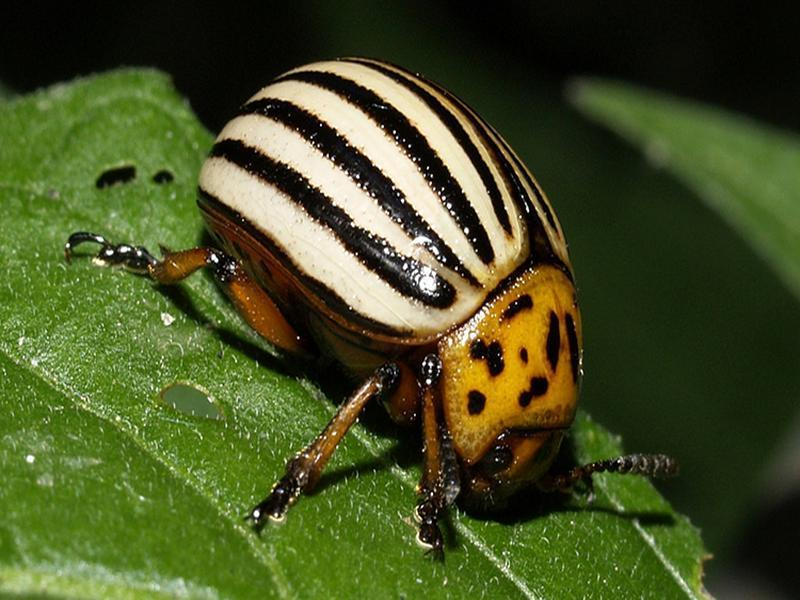hrosc: (185, 58, 608, 526)
